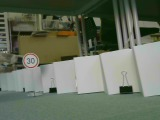speed_30: (22, 52, 40, 70)
